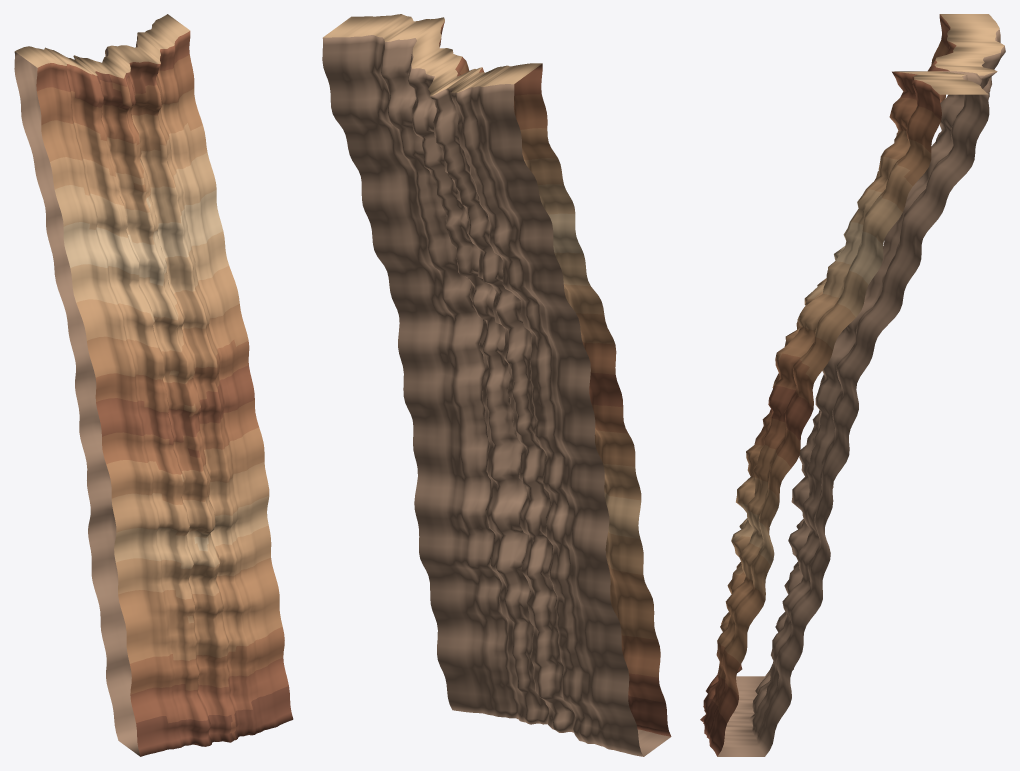
Rendered from SM_CanyonWall_L_Straight_C_Narrow.glb.
The picture shows the model from 3 angles, left to right: view 1: azimuth 30°, elevation 25°; view 2: azimuth 150°, elevation 25°; view 3: azimuth 270°, elevation 25°; orthographic projection. The views are drawn at different scales.
Parts seen in each view (by area): view 1: SM_CanyonWall_L_Straight_C_Narrow; view 2: SM_CanyonWall_L_Straight_C_Narrow; view 3: SM_CanyonWall_L_Straight_C_Narrow.
Part boxes in pixels (<box>): SM_CanyonWall_L_Straight_C_Narrow: <box>14,14,293,756</box>; SM_CanyonWall_L_Straight_C_Narrow: <box>322,14,671,756</box>; SM_CanyonWall_L_Straight_C_Narrow: <box>700,14,1005,756</box>.
Size of the model in its own units: 24 by 92.13 by 38.49.
